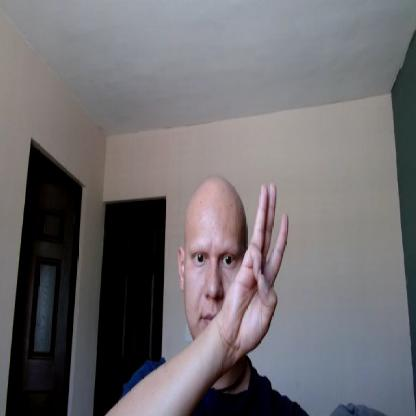W: (221, 181, 290, 356)
